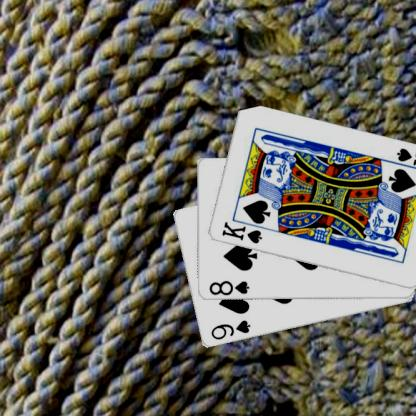8S: (206, 279, 251, 296)
9S: (208, 317, 252, 342)
KS: (219, 219, 264, 245), (387, 146, 416, 174)
